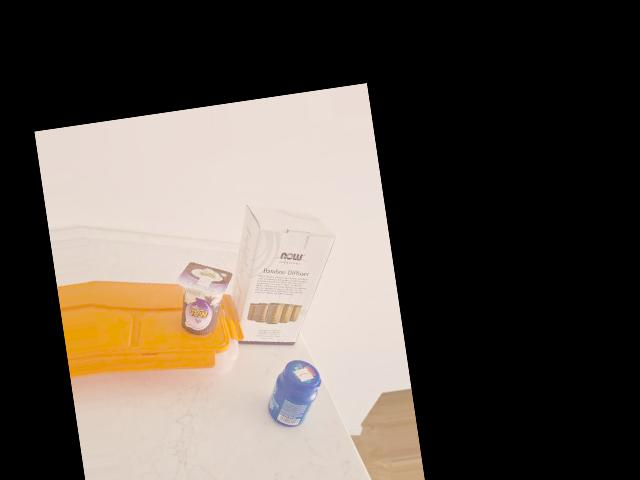milky: (173, 256, 242, 339)
